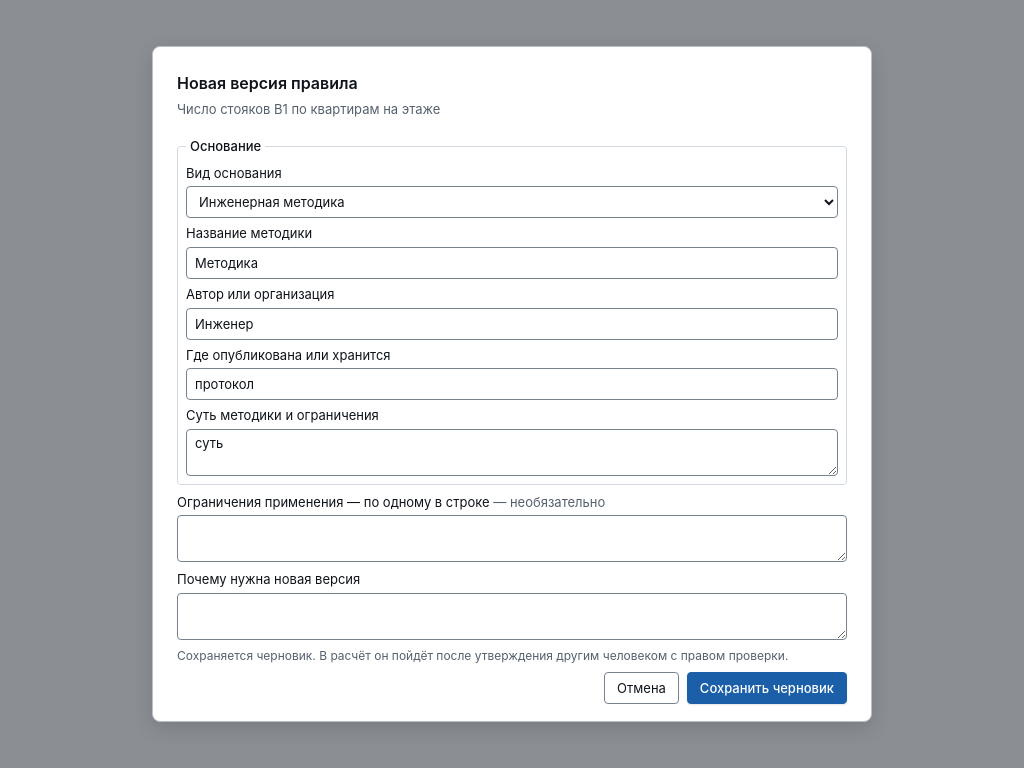
it: решение инженера по заявке › после утверждения новая версия требует причины
This screenshot has width=1024, height=768.
(page scrolled)
Click the button "Сохранить черновик" at (767, 688), box x1=687 y1=672 x2=847 y2=704
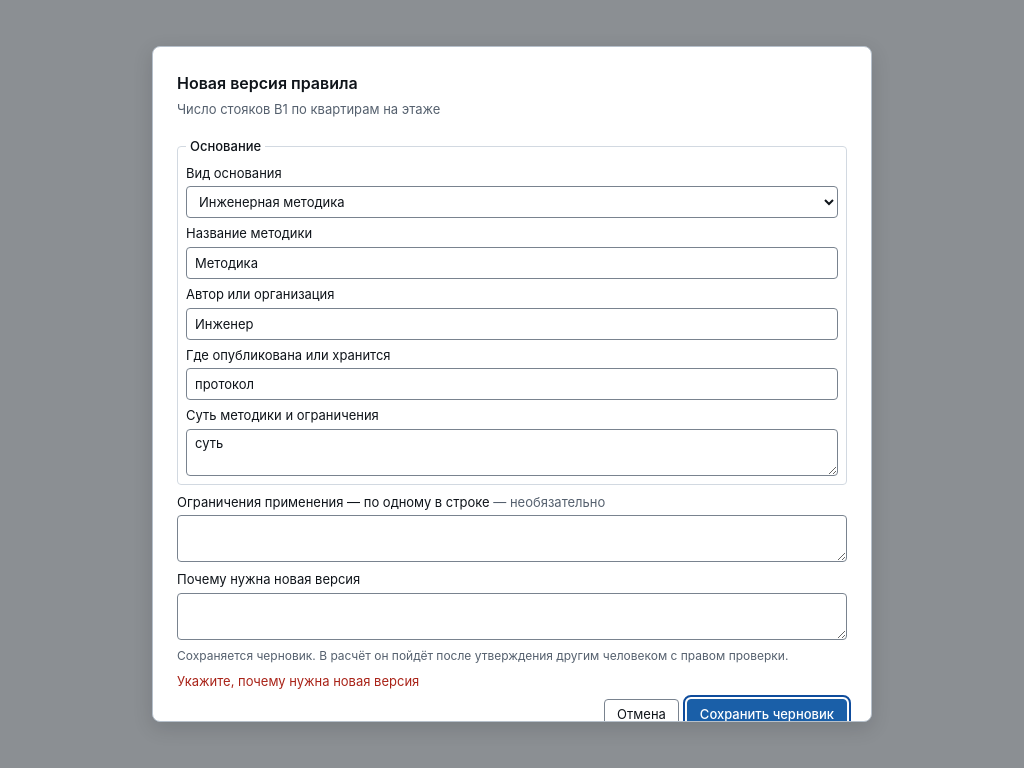
Result: the text "Укажите, почему нужна новая версия" is shown at x1=177 y1=673 x2=419 y2=689
